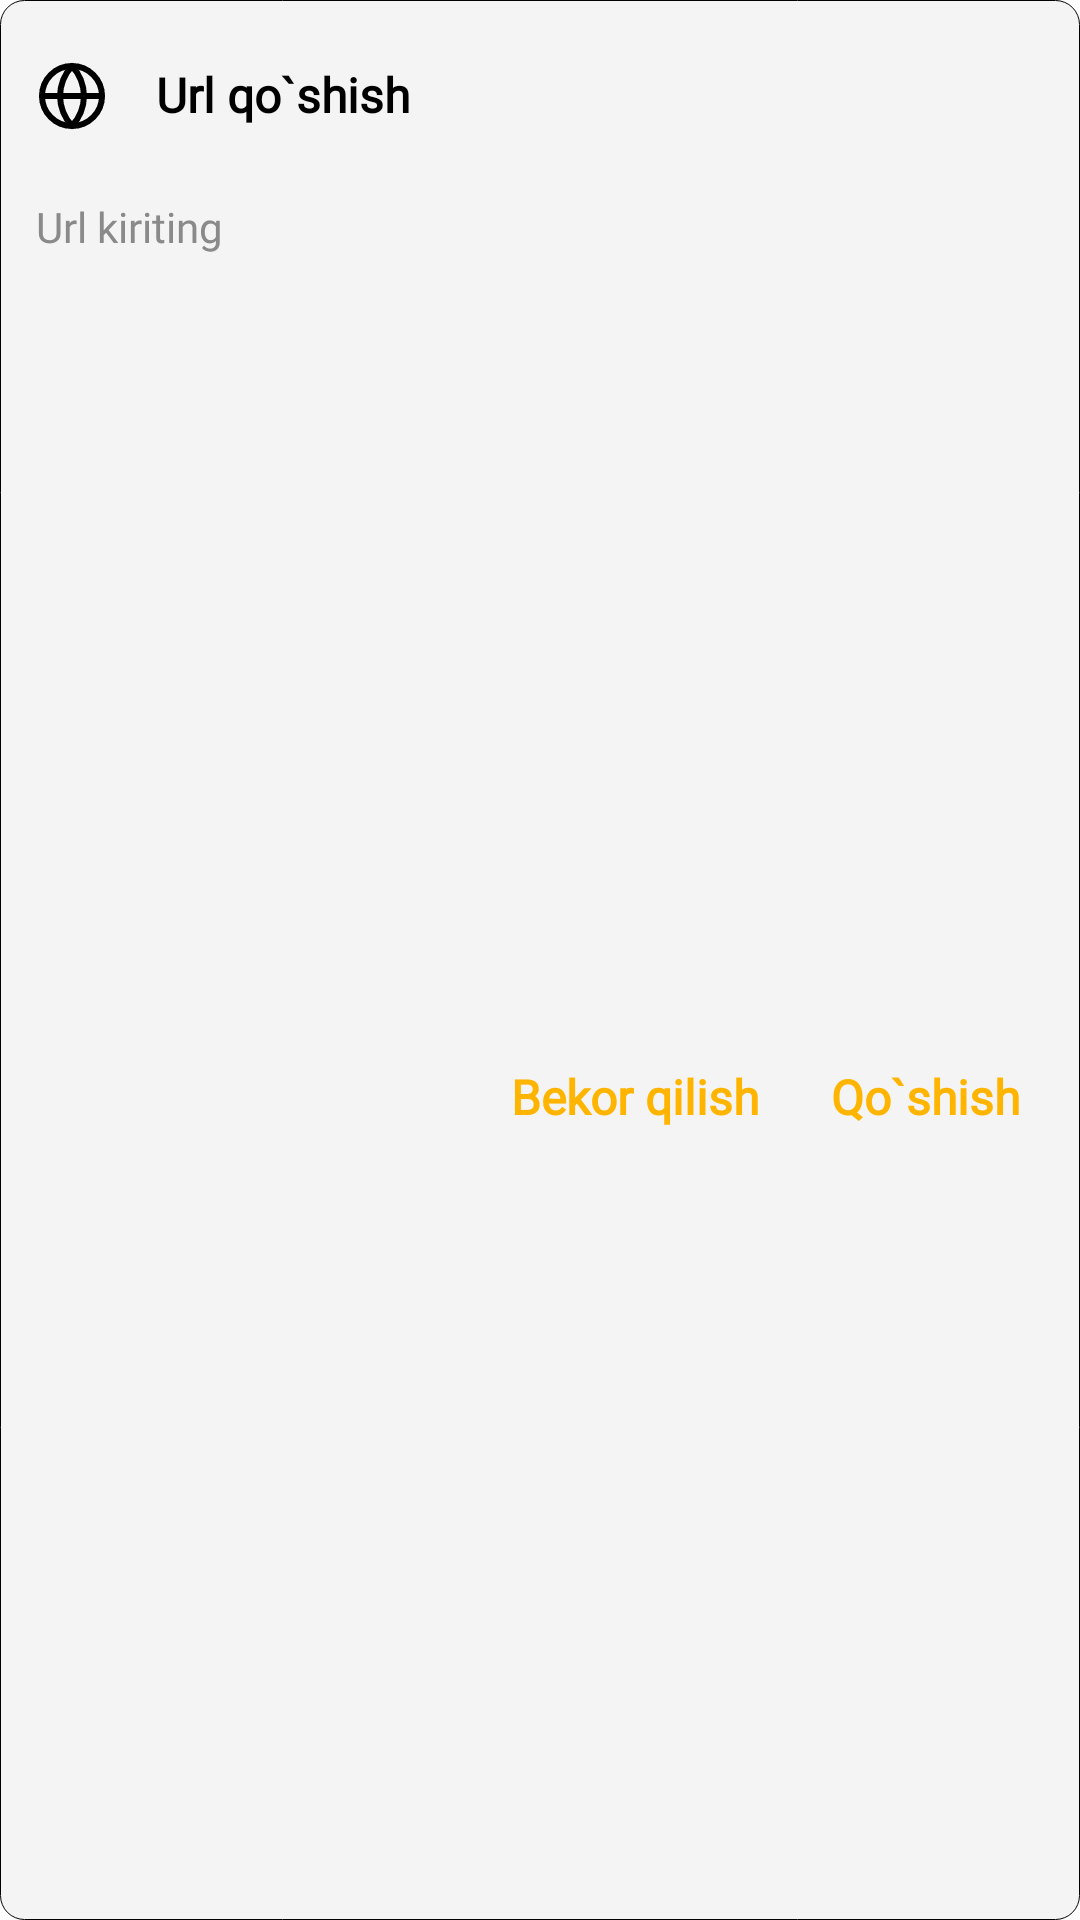

Named icons in this screenshot (1080 x 1920) and their bounding boxes, detection(x1, y1, x2, y2):
web link: detection(39, 63, 105, 129)
